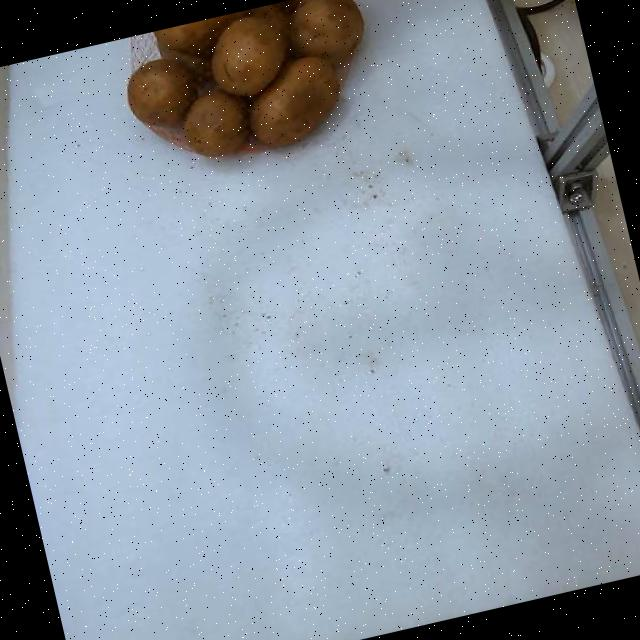potato: (250, 55, 338, 145), (210, 15, 284, 95), (127, 57, 196, 126), (291, 0, 364, 64), (182, 88, 249, 156), (155, 10, 243, 54)
